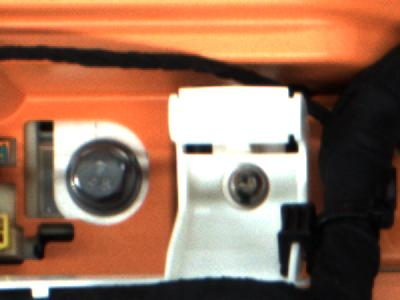nut_b: (61, 140, 148, 216)
screw_m: (220, 163, 275, 212)
